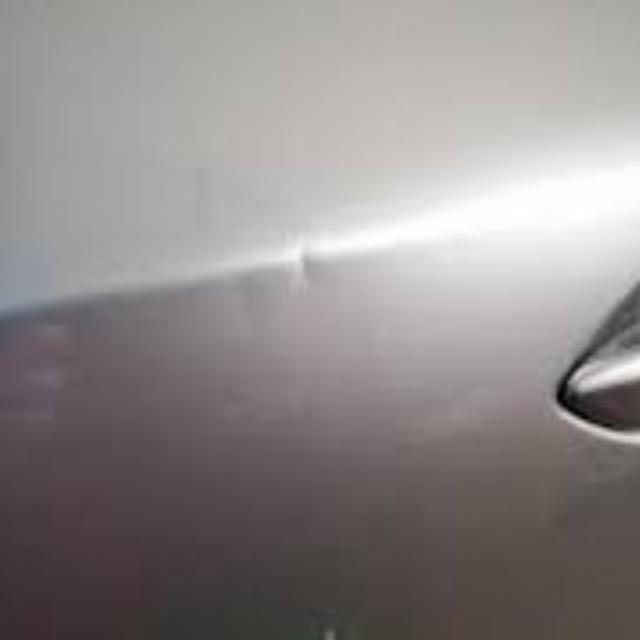dents: (281, 234, 333, 328), (230, 268, 282, 360)
